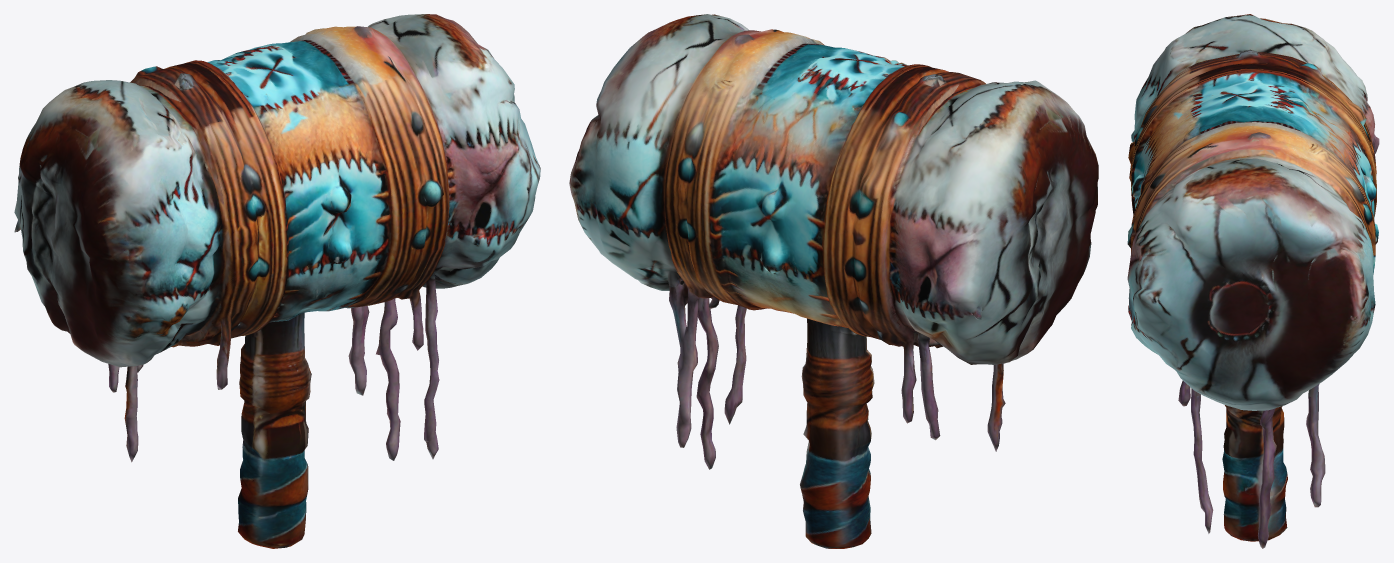
Rendered from Stitched_Hammer_0221192043_texture.fbx.
3 views of the same model, side by side, from view 1: azimuth 30°, elevation 25°; view 2: azimuth 150°, elevation 25°; view 3: azimuth 270°, elevation 25° (orthographic). The views are drawn at different scales.
Parts seen in each view (by area): view 1: Mesh1; view 2: Mesh1; view 3: Mesh1.
Part boxes in pixels (bbox=[...]): Mesh1: bbox=[14, 14, 540, 548]; Mesh1: bbox=[569, 14, 1098, 548]; Mesh1: bbox=[1127, 14, 1379, 548].
Size of the model in its own units: 190 by 200 by 103.
1 material, 1 textured.
